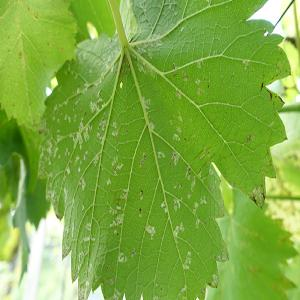Folha: (36, 0, 291, 299), (176, 183, 300, 300), (0, 0, 83, 130)
Fungo: (53, 85, 96, 134), (134, 31, 167, 61), (181, 170, 207, 206), (69, 122, 95, 152), (45, 184, 63, 216), (106, 30, 119, 74), (36, 150, 53, 182), (37, 112, 55, 140), (134, 58, 160, 76), (257, 86, 282, 104), (180, 159, 196, 186), (189, 193, 209, 214), (46, 135, 63, 159), (88, 94, 108, 114), (84, 215, 96, 248), (238, 50, 254, 73), (251, 184, 265, 209), (140, 93, 154, 115), (173, 108, 186, 130), (108, 284, 124, 300), (192, 71, 201, 98), (111, 118, 121, 141), (112, 160, 124, 178), (76, 251, 88, 269), (61, 182, 71, 203), (96, 116, 109, 132), (208, 270, 221, 286), (109, 213, 123, 227), (216, 249, 230, 263), (173, 221, 185, 237), (182, 250, 192, 269), (80, 283, 90, 300), (168, 132, 184, 142), (145, 224, 155, 239), (96, 129, 104, 147), (110, 153, 122, 165), (171, 150, 179, 166), (173, 196, 181, 212), (114, 192, 122, 206), (139, 152, 146, 167), (70, 218, 75, 238), (79, 176, 86, 190), (108, 176, 114, 189), (148, 118, 154, 131), (245, 132, 252, 143), (193, 216, 200, 227), (138, 207, 142, 217), (131, 248, 135, 256), (140, 188, 143, 195)
